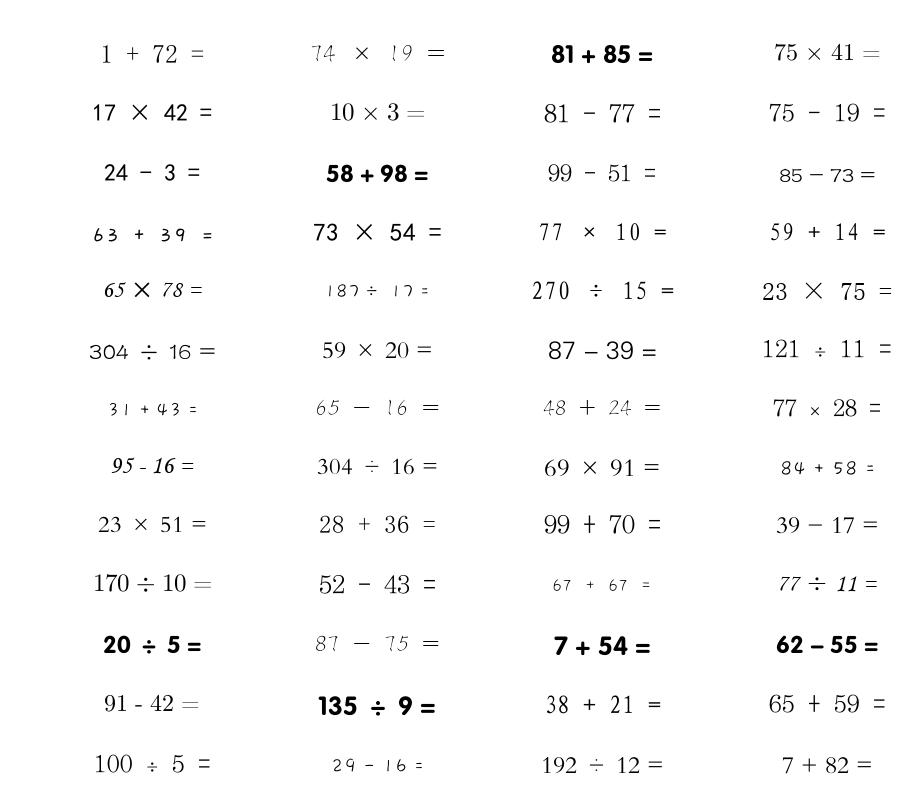MQ: (531, 281, 674, 300), (762, 339, 892, 358), (310, 44, 445, 62), (318, 696, 436, 716), (544, 103, 661, 123), (762, 282, 892, 300), (544, 514, 661, 534), (319, 574, 436, 594), (313, 223, 442, 241), (538, 223, 667, 241), (769, 103, 886, 122), (544, 695, 661, 714), (769, 694, 886, 713), (94, 754, 211, 773), (93, 574, 212, 592), (315, 399, 440, 416), (315, 635, 440, 652), (769, 223, 886, 241), (319, 515, 436, 533), (541, 757, 664, 774), (544, 459, 660, 477), (548, 341, 657, 360), (317, 458, 438, 475), (551, 44, 653, 64), (92, 104, 212, 121), (89, 344, 216, 360), (100, 44, 204, 63), (548, 164, 656, 182), (773, 399, 881, 417), (554, 636, 651, 656), (326, 164, 428, 183), (776, 635, 878, 654), (774, 43, 881, 61), (543, 400, 661, 416), (322, 342, 433, 359), (103, 635, 201, 654), (98, 516, 207, 533), (776, 517, 879, 534), (104, 694, 200, 712), (91, 228, 214, 242), (330, 103, 425, 121), (104, 164, 200, 181), (102, 282, 202, 298), (777, 576, 877, 592), (782, 757, 873, 774), (324, 284, 430, 298), (110, 457, 194, 474), (780, 461, 875, 476), (331, 758, 424, 773), (107, 402, 198, 417), (779, 168, 875, 182), (552, 579, 652, 592)
